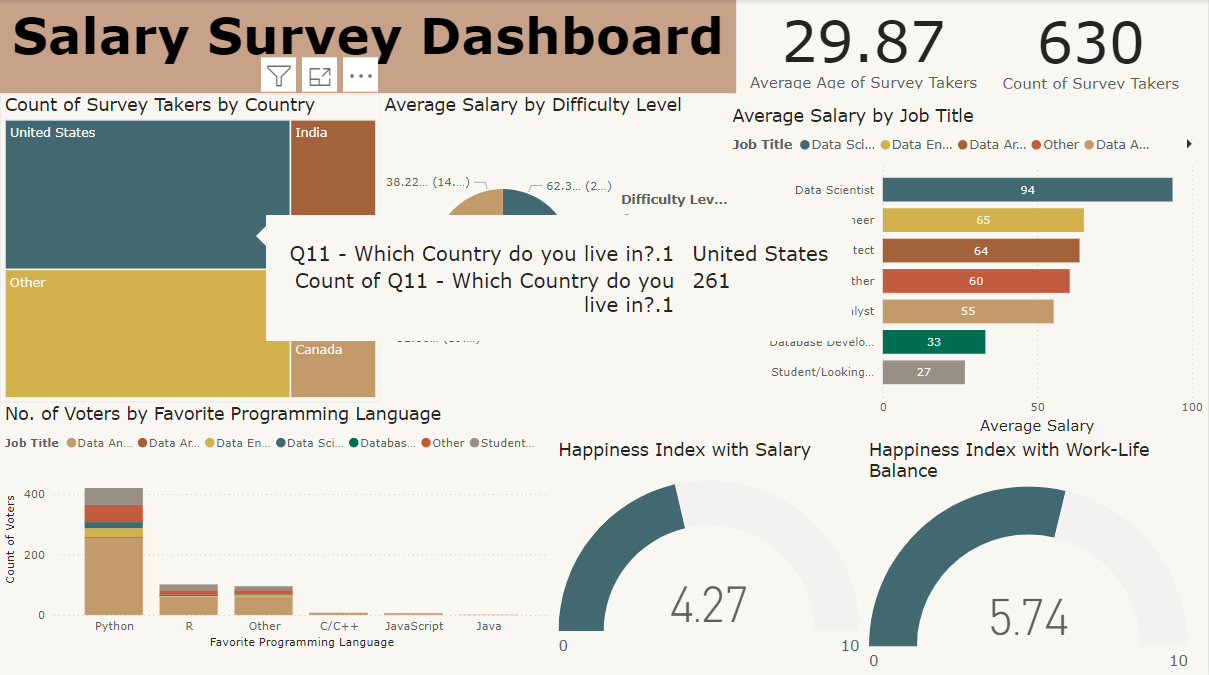

This screenshot's page, from the dashboard's own definition file:
{"tool":"powerbi","page":{"name":"Page 1","canvas":[1280,720],"ordinal":0},"visuals":[{"type":"textbox","box":[0,0,781,100.2],"z":0},{"type":"card","fields":{"Values":["Avg(Data Professional Survey.Q10 - Current Age)"]},"box":[782.6,0,265.6,100.2],"z":1000},{"type":"card","fields":{"Values":["Count(Data Professional Survey.Unique ID)"]},"box":[1048.2,3.2,216.3,97],"z":2000},{"type":"barChart","title":"Average Salary by Job Title","fields":{"Category":["Data Professional Survey.Q1 - Which Title Best Fits your Current Role?.1"],"Series":["Data Professional Survey.Q1 - Which Title Best Fits your Current Role?.1"],"Y":["Avg(Data Professional Survey.Average Salary)"]},"box":[771.4,111.3,509,354.7],"z":3000},{"type":"columnChart","title":"No. of Voters by Favorite Programming Language","fields":{"Category":["Data Professional Survey.Q5 - Favorite Programming Language.1"],"Y":["CountNonNull(Data Professional Survey.Unique ID)"],"Series":["Data Professional Survey.Q1 - Which Title Best Fits your Current Role?.1"]},"box":[0,427.9,586.9,265.6],"z":4000},{"type":"treemap","title":"Count of Survey Takers by Country","fields":{"Group":["Data Professional Survey.Q11 - Which Country do you live in?.1"],"Values":["CountNonNull(Data Professional Survey.Q11 - Which Country do you live in?.1)"]},"box":[0,99.8,403.2,327.3],"z":5000},{"type":"gauge","title":"Happiness Index with Salary","fields":{"Y":["Avg(Data Professional Survey.Q6 - How Happy are you in your Current Position with the following? (Salary))"],"MinValue":["Min(Data Professional Survey.Q6 - How Happy are you in your Current Position with the following? (Salary))"],"MaxValue":["Max(Data Professional Survey.Q6 - How Happy are you in your Current Position with the following? (Salary))"]},"box":[586.9,466,329.3,254.5],"z":6000},{"type":"gauge","title":"Happiness Index with Work-Life Balance","fields":{"Y":["Avg(Data Professional Survey.Q6 - How Happy are you in your Current Position with the following? (Work/Life Balance))"],"MinValue":["Min(Data Professional Survey.Q6 - How Happy are you in your Current Position with the following? (Work/Life Balance))1"],"MaxValue":["Max(Data Professional Survey.Q6 - How Happy are you in your Current Position with the following? (Work/Life Balance))2"]},"box":[916.2,466,348.3,254.5],"z":7000},{"type":"donutChart","fields":{"Category":["Data Professional Survey.Q7 - How difficult was it for you to break into Data?"],"Y":["Avg(Data Professional Survey.Average Salary)"]},"box":[402.4,100.2,369,327.7],"z":8000}]}

Visuals, with their boxes in screenshot pixels (x1, y1, x2, y2), scaled from the page's 1280x720 canvas onto the 1209x675 screenshot:
textbox: Rect(0, 0, 738, 94)
card - Avg(Data Professional Survey.Q10 - Current Age): Rect(739, 0, 990, 94)
card - Count(Data Professional Survey.Unique ID): Rect(990, 3, 1194, 94)
"Average Salary by Job Title" barChart: Rect(729, 104, 1208, 437)
"No. of Voters by Favorite Programming Language" columnChart: Rect(0, 401, 554, 650)
"Count of Survey Takers by Country" treemap: Rect(0, 94, 381, 400)
"Happiness Index with Salary" gauge: Rect(554, 437, 865, 674)
"Happiness Index with Work-Life Balance" gauge: Rect(865, 437, 1194, 674)
donutChart - Data Professional Survey.Q7 - How difficult was it for you to break into Data? x Avg(Data Professional Survey.Average Salary): Rect(380, 94, 729, 401)
